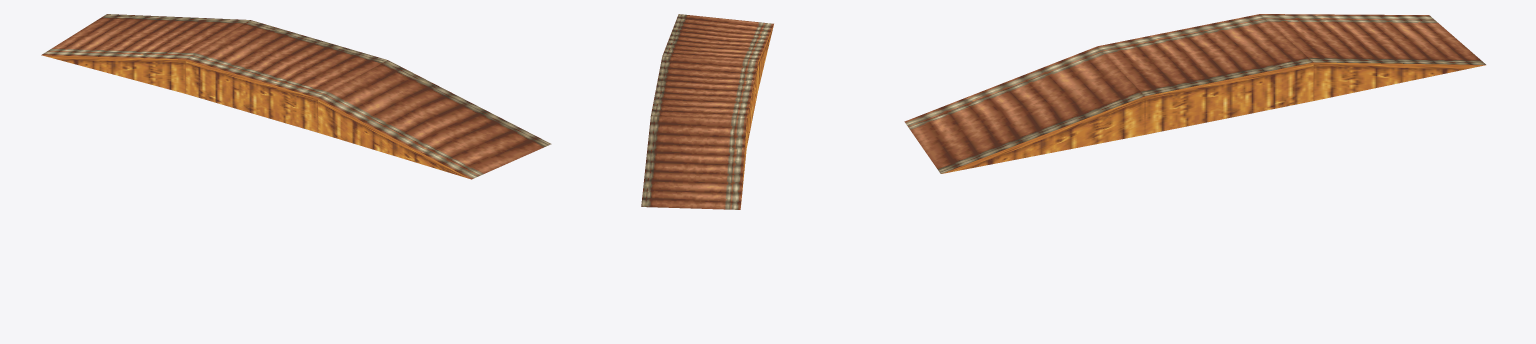
Rendered from bridge.obj.
3 views of the same model, side by side, from view 1: azimuth 30°, elevation 25°; view 2: azimuth 150°, elevation 25°; view 3: azimuth 270°, elevation 25° (orthographic). The views are drawn at different scales.
Visible parts, largest first — view 1: bridge; view 2: bridge; view 3: bridge.
Boxes of the visible parts, x1=… form: bridge: x1=41, y1=14, x2=551, y2=179; bridge: x1=641, y1=14, x2=773, y2=209; bridge: x1=904, y1=14, x2=1485, y2=173.
Size of the model in its own units: 486 by 230 by 818.
Materials: 1 (1 with a texture image).
